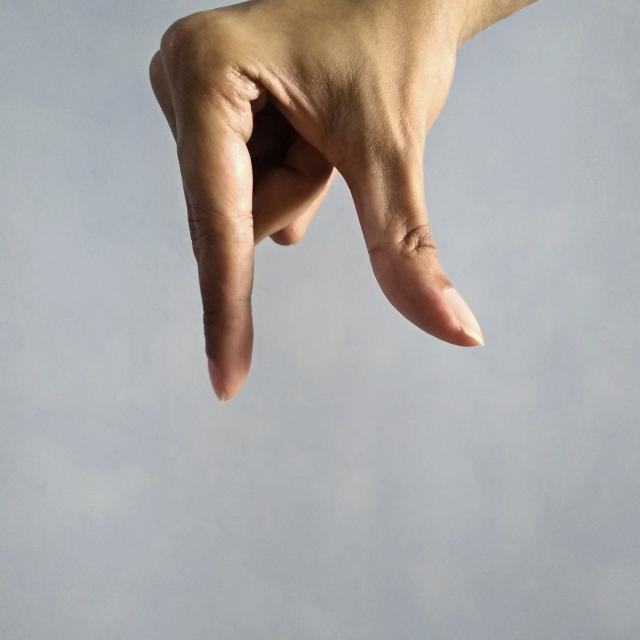Q: (139, 0, 551, 407)
